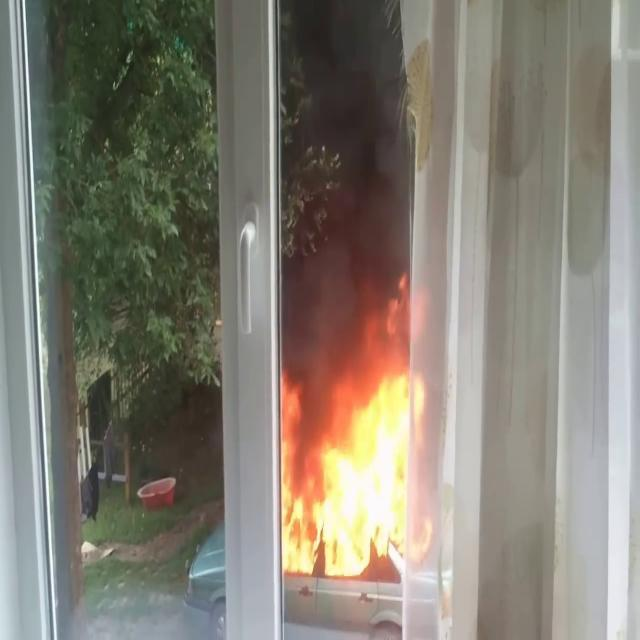Fire: (282, 344, 430, 580)
Smoke: (286, 1, 406, 330)
